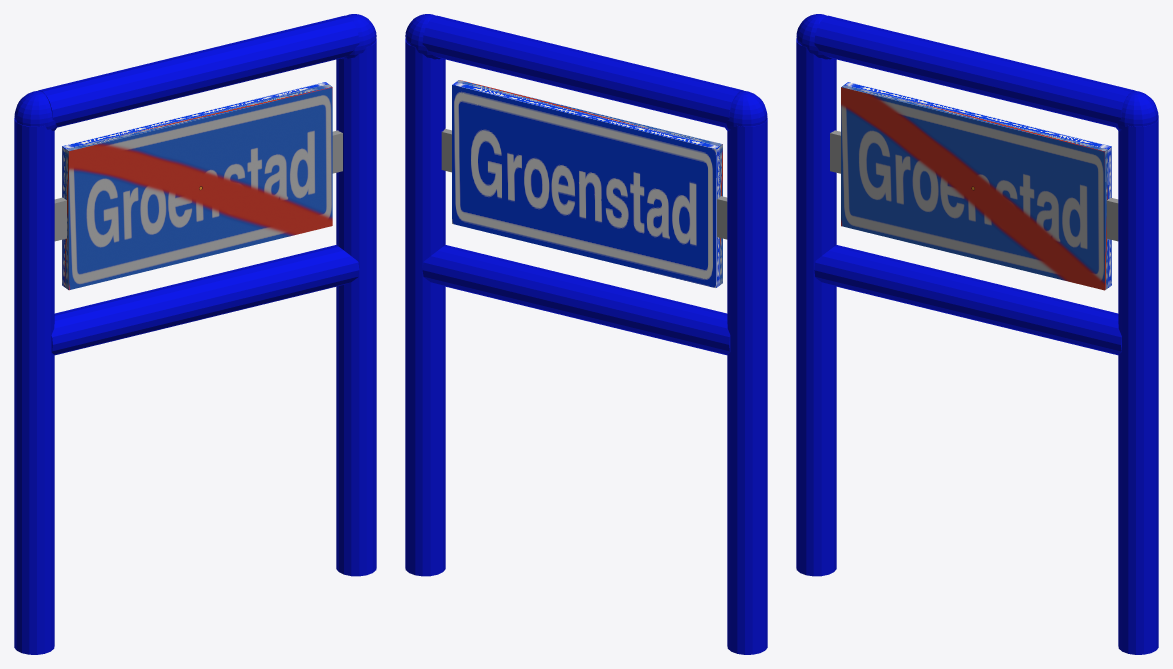
File: Stadbord.fbx
The picture shows the model from 3 angles, left to right: view 1: azimuth 30°, elevation 25°; view 2: azimuth 150°, elevation 25°; view 3: azimuth 330°, elevation 25°; orthographic projection.
Visible parts, largest first — view 1: Cylinder.003, Cube.002, Cube, Cube.001; view 2: Cylinder.003, Cube, Cube.002, Cube.001; view 3: Cylinder.003, Cube.002, Cube, Cube.001.
Boxes of the visible parts, x1,y1,x2,y2 form: Cylinder.003: (14,14,376,654); Cube.002: (64,84,332,290); Cube: (62,82,327,287); Cube.001: (54,130,342,241); Cylinder.003: (405,14,767,654); Cube: (452,82,719,287); Cube.002: (456,80,722,284); Cube.001: (441,128,727,239); Cylinder.003: (796,14,1158,654); Cube.002: (841,85,1107,290); Cube: (844,82,1111,287); Cube.001: (830,130,1118,241).
Bounding box in the file's own units: 184 × 272 × 18.72.
